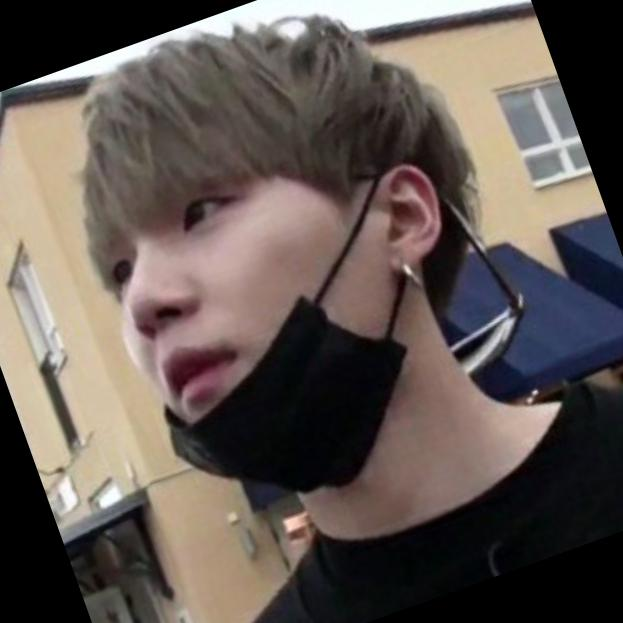mask_weared_incorrect: (87, 165, 415, 487)
